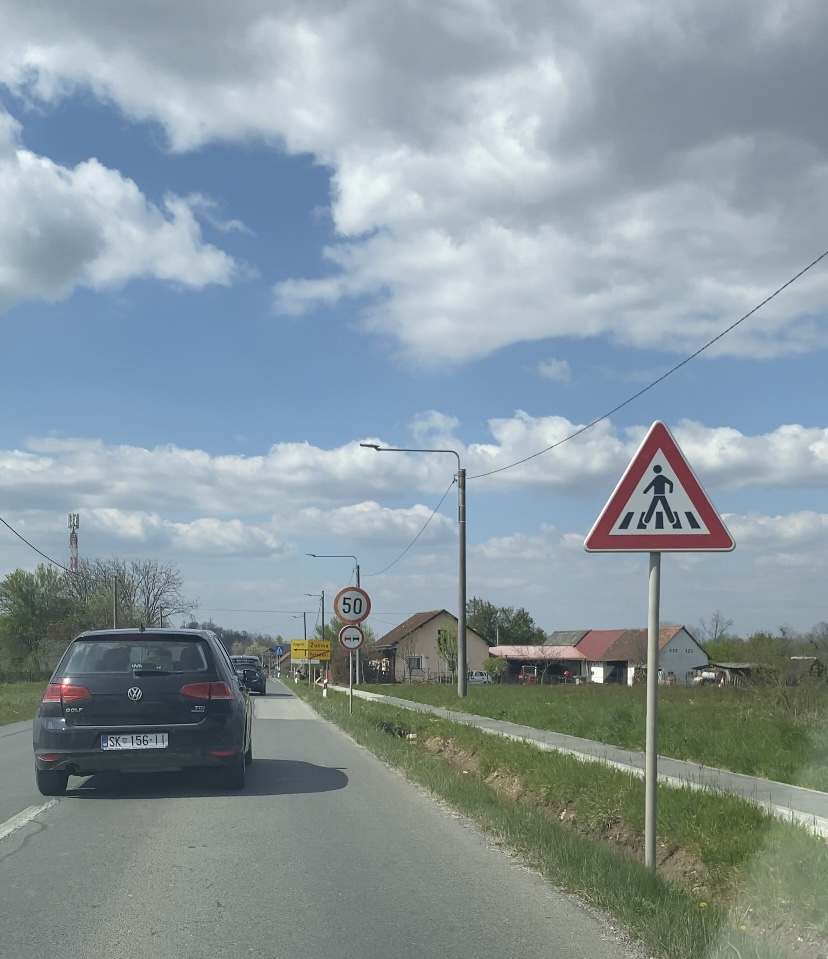Ograničenje brzine 50: (334, 586, 371, 625)
Približavanje pješačkom prijelazu: (583, 420, 736, 551)
Zabrana pretjecanja: (339, 625, 365, 651)
